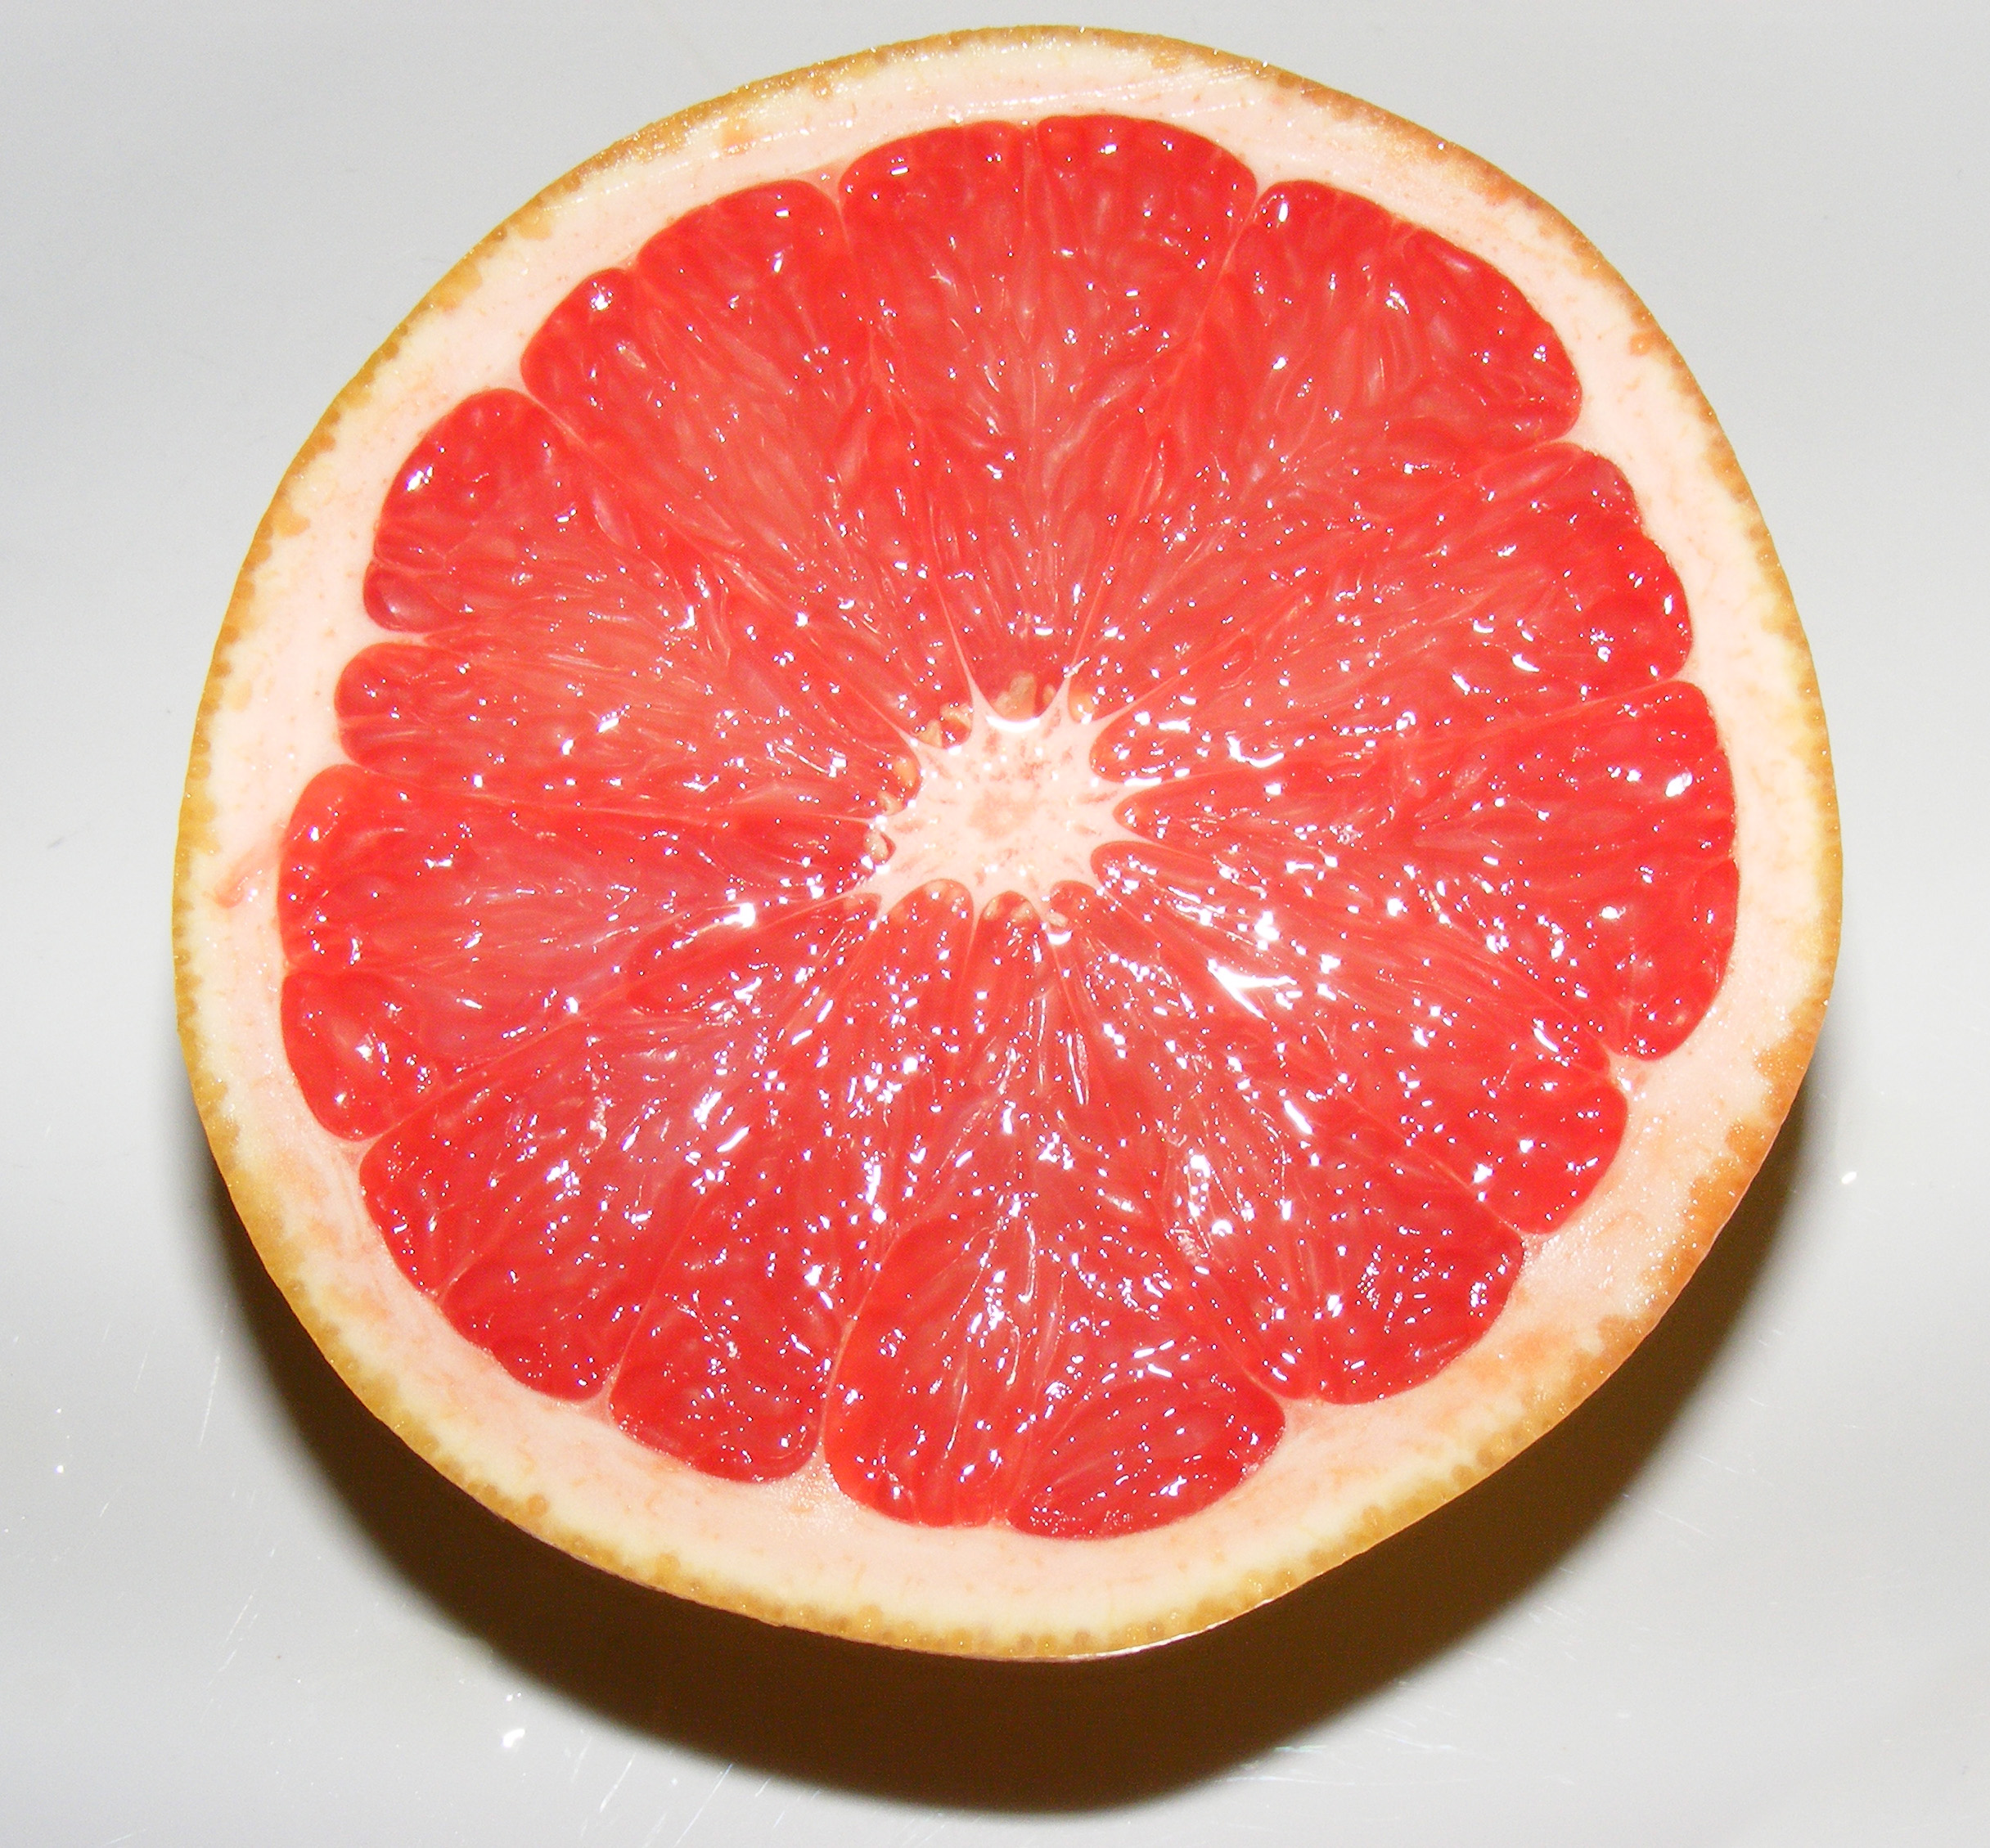grapefruit: (194, 42, 1797, 1650)
